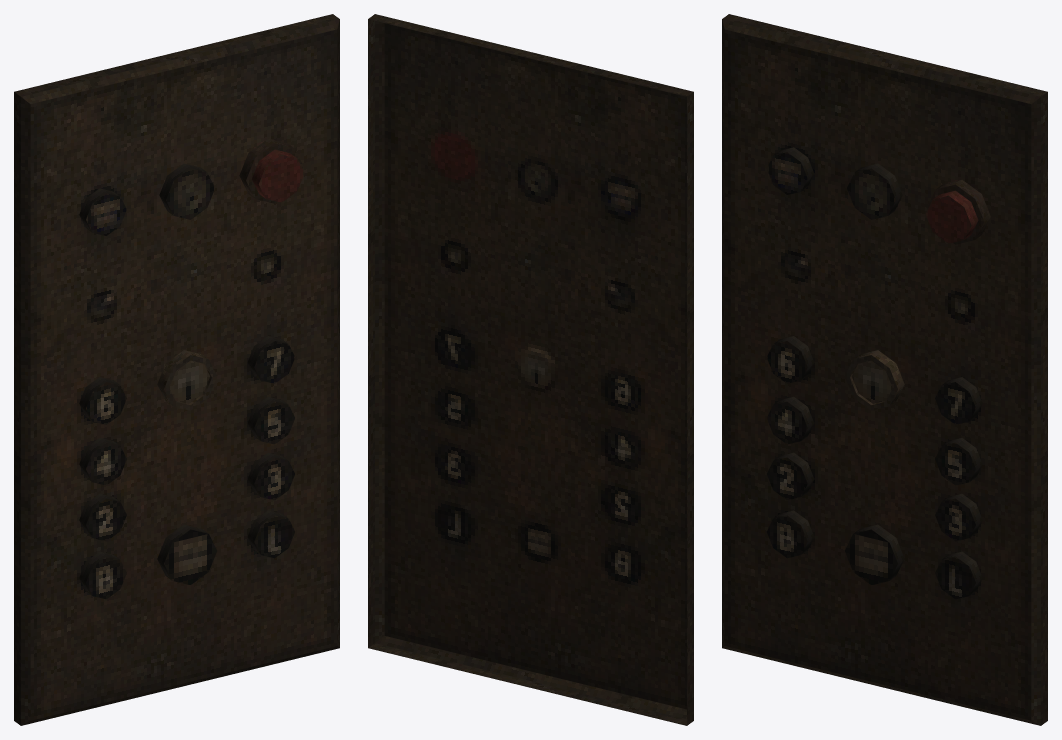
Rendered from elevator_buttons_1.glb.
The picture shows the model from 3 angles, left to right: view 1: azimuth 30°, elevation 25°; view 2: azimuth 150°, elevation 25°; view 3: azimuth 330°, elevation 25°; orthographic projection.
Parts seen in each view (by area): view 1: elevator_buttons_1; view 2: elevator_buttons_1; view 3: elevator_buttons_1.
Part boxes in pixels (<box>): elevator_buttons_1: <box>14,14,339,725</box>; elevator_buttons_1: <box>368,14,693,725</box>; elevator_buttons_1: <box>722,14,1047,725</box>.
Size of the model in its own units: 0.2652 by 0.5 by 0.0346.
Materials: 1 (1 with a texture image).
